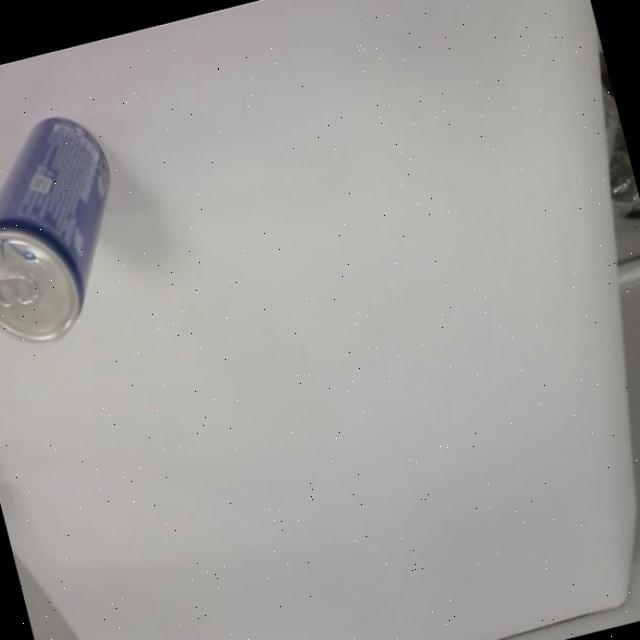debris: (0, 104, 148, 359)
